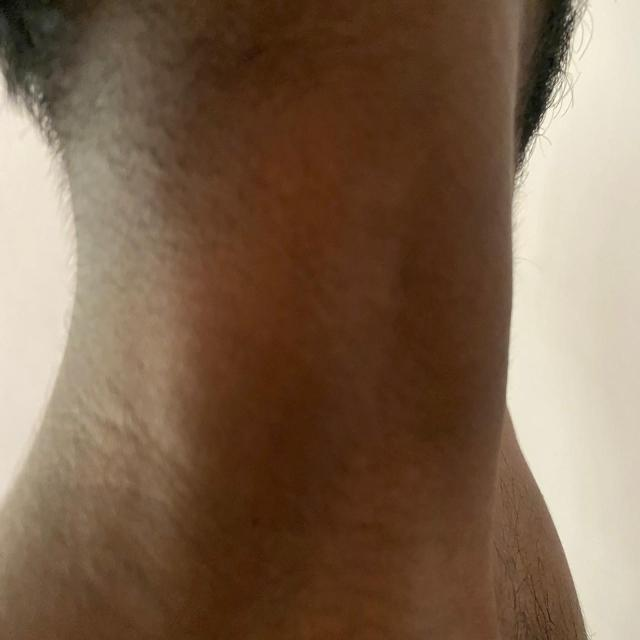Healthy: (1, 0, 536, 634)
